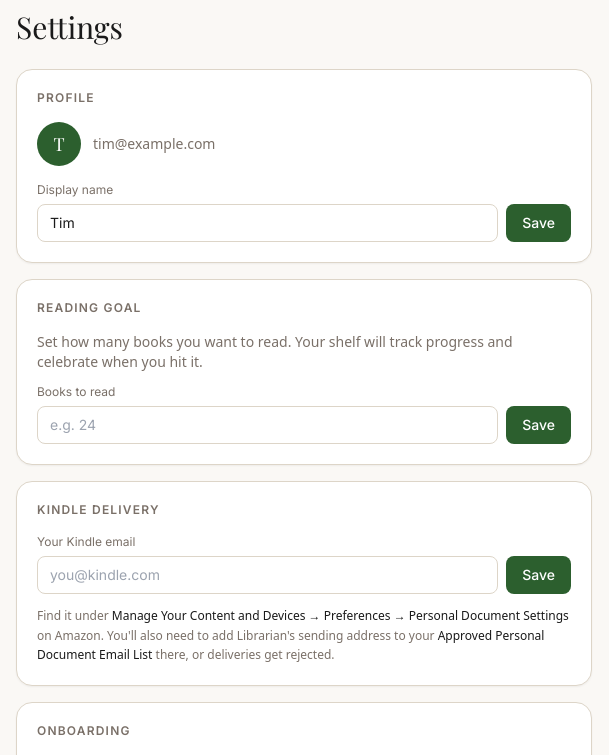
Test: Settings — reading goal › saves a whole-number goal and refreshes the profile
Type "24" into the number field with placeholder "e.g. 24".
click(268, 425); type("24")  # box x1=37 y1=406 x2=498 y2=444
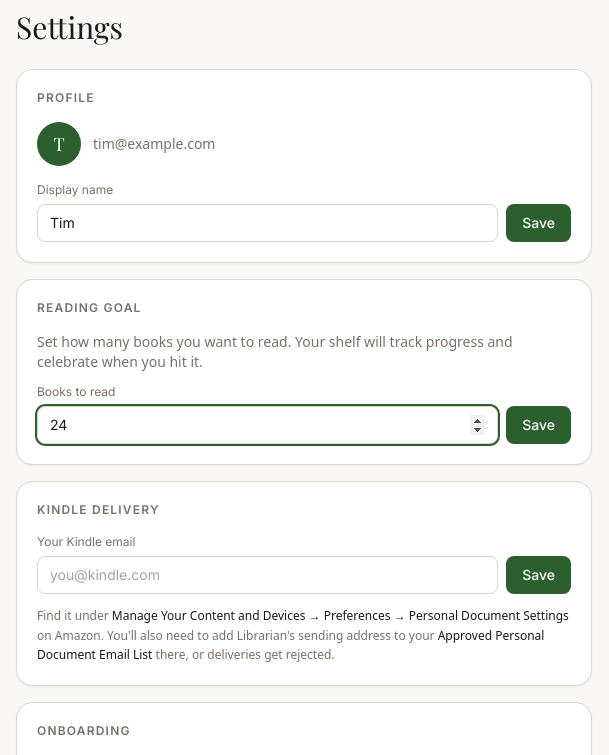
Click the button with aria-label "Save reading goal".
click(539, 425)  # box x1=506 y1=406 x2=571 y2=444
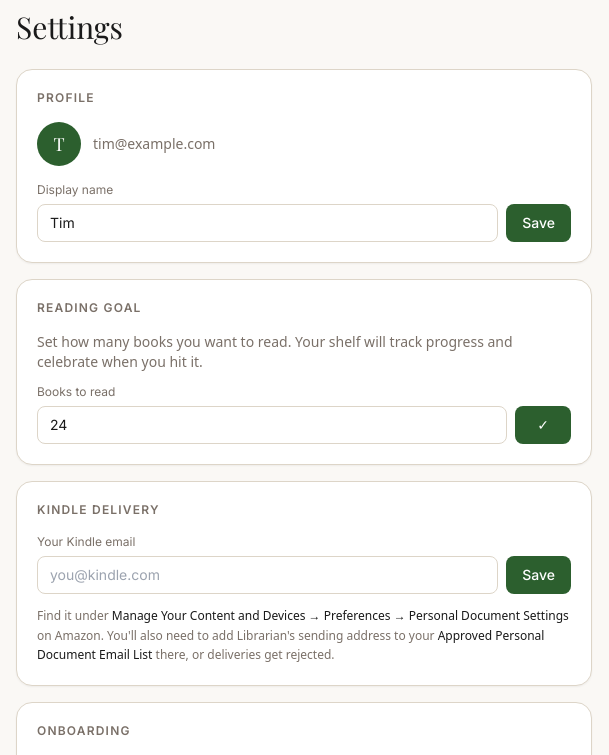
Result: the button "✓" is shown at x1=515 y1=406 x2=571 y2=444
